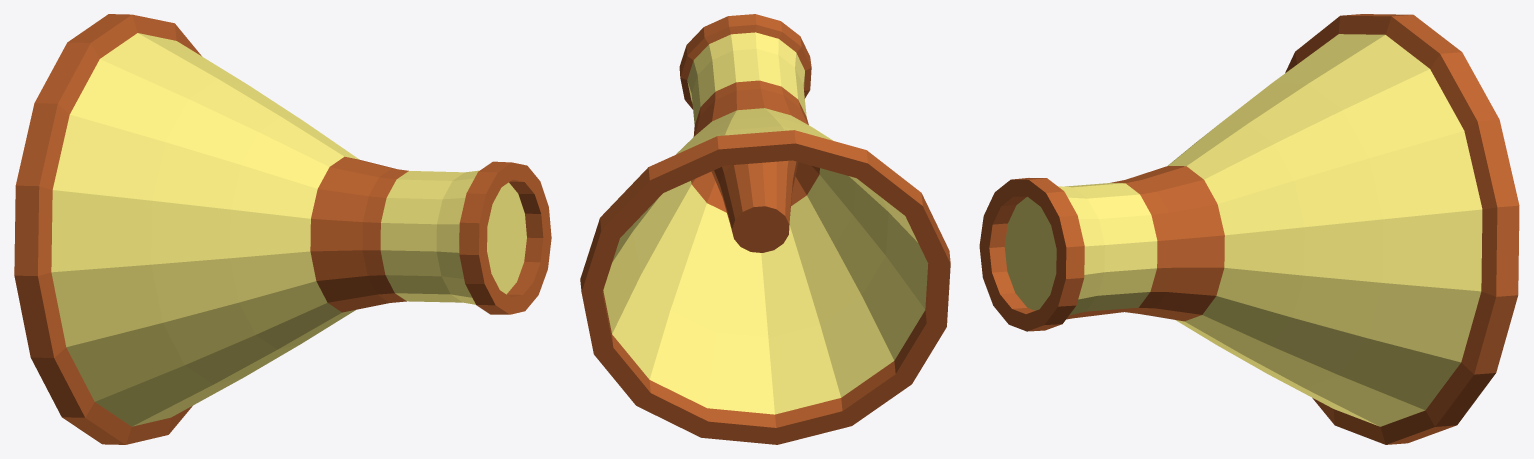
File: megaPhone.glb
The picture shows the model from 3 angles, left to right: view 1: azimuth 30°, elevation 25°; view 2: azimuth 150°, elevation 25°; view 3: azimuth 270°, elevation 25°; orthographic projection. The views are drawn at different scales.
Parts seen in each view (by area): view 1: MegaPhone; view 2: MegaPhone; view 3: MegaPhone.
Part boxes in pixels (x1=…): MegaPhone: x1=14, y1=14, x2=551, y2=444; MegaPhone: x1=580, y1=14, x2=950, y2=444; MegaPhone: x1=979, y1=14, x2=1519, y2=444.
Bounding box in the file's own units: 14.22 × 12.4 × 15.59.
